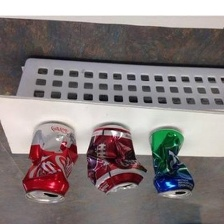can: (82, 121, 148, 198), (21, 120, 79, 205), (146, 128, 196, 201)
